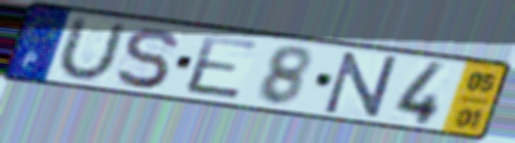4: (391, 58, 448, 127)
8: (254, 43, 316, 109)
E: (182, 32, 262, 103)
N: (321, 50, 400, 120)
S: (113, 25, 181, 90)
U: (51, 14, 131, 84)
